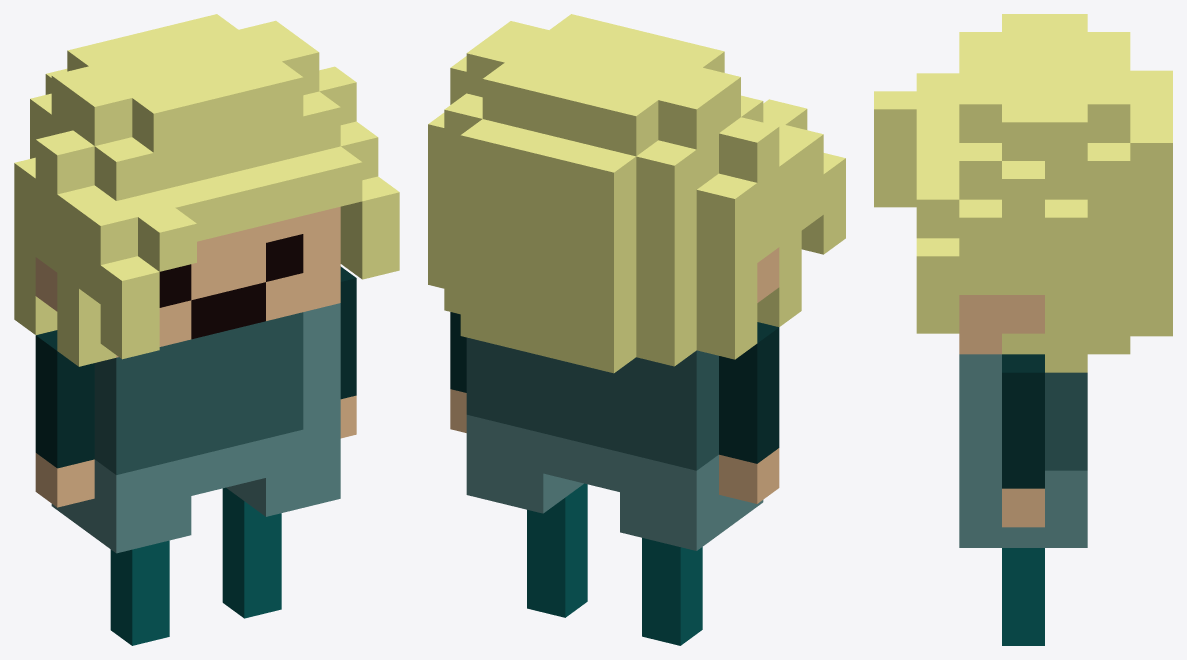
Rendered from chr_Student-6.obj.
3 views of the same model, side by side, from view 1: azimuth 30°, elevation 25°; view 2: azimuth 150°, elevation 25°; view 3: azimuth 270°, elevation 25° (orthographic). The views are drawn at different scales.
Size of the model in its own units: 0.8 by 1.4 by 0.7.
Materials: 1 (1 with a texture image).
